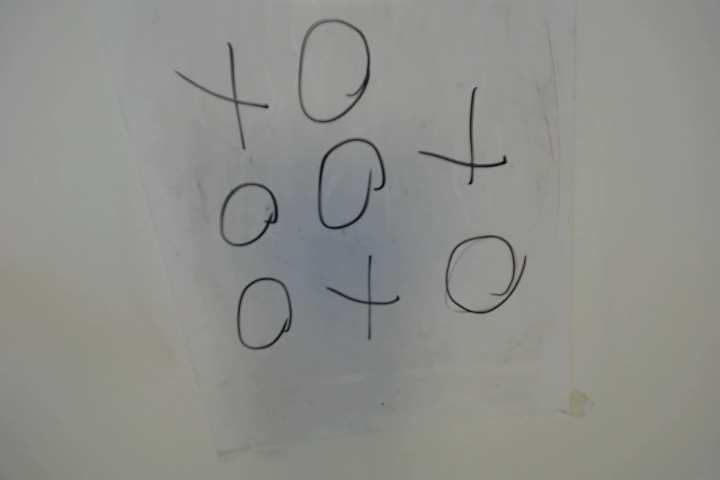0: (294, 15, 371, 125), (313, 133, 389, 234), (440, 230, 527, 316), (232, 275, 297, 351), (216, 179, 285, 248)
x: (177, 40, 273, 160), (421, 82, 511, 197), (318, 250, 407, 340)
